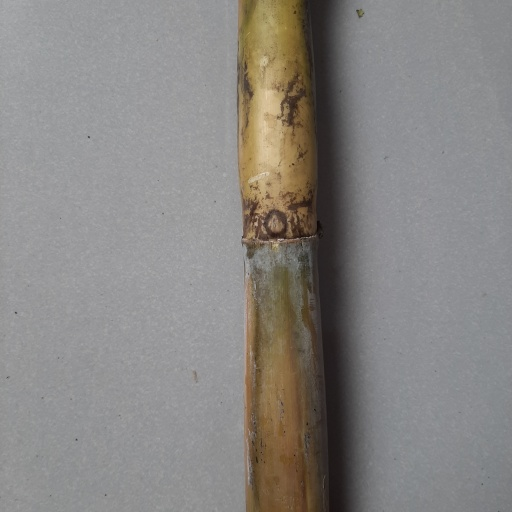Bud: (263, 210, 291, 241)
